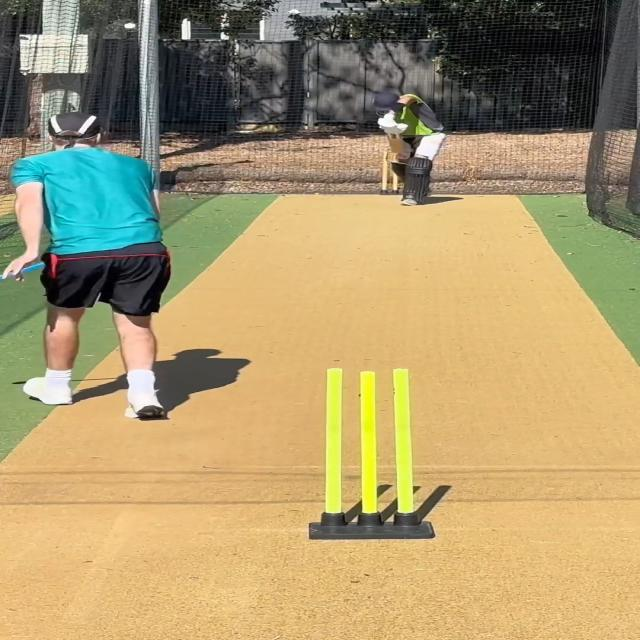ball: (122, 21, 137, 30)
stump: (306, 365, 442, 542)
